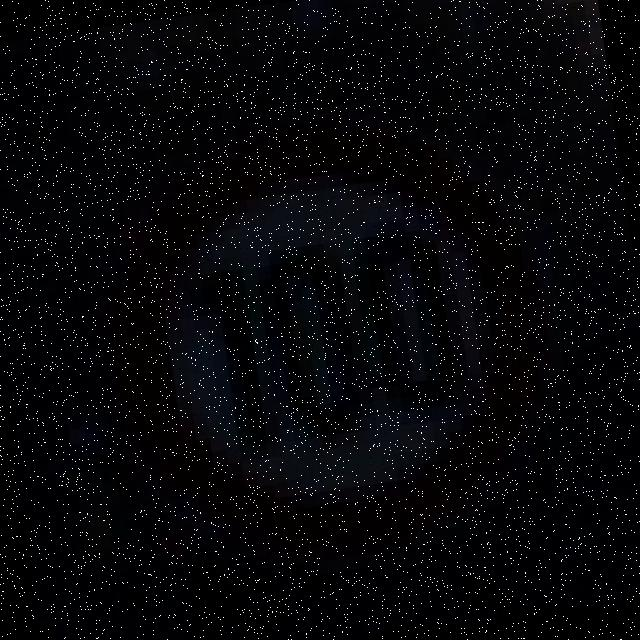Ograniczenie predkosci do 100: (82, 100, 578, 582)
